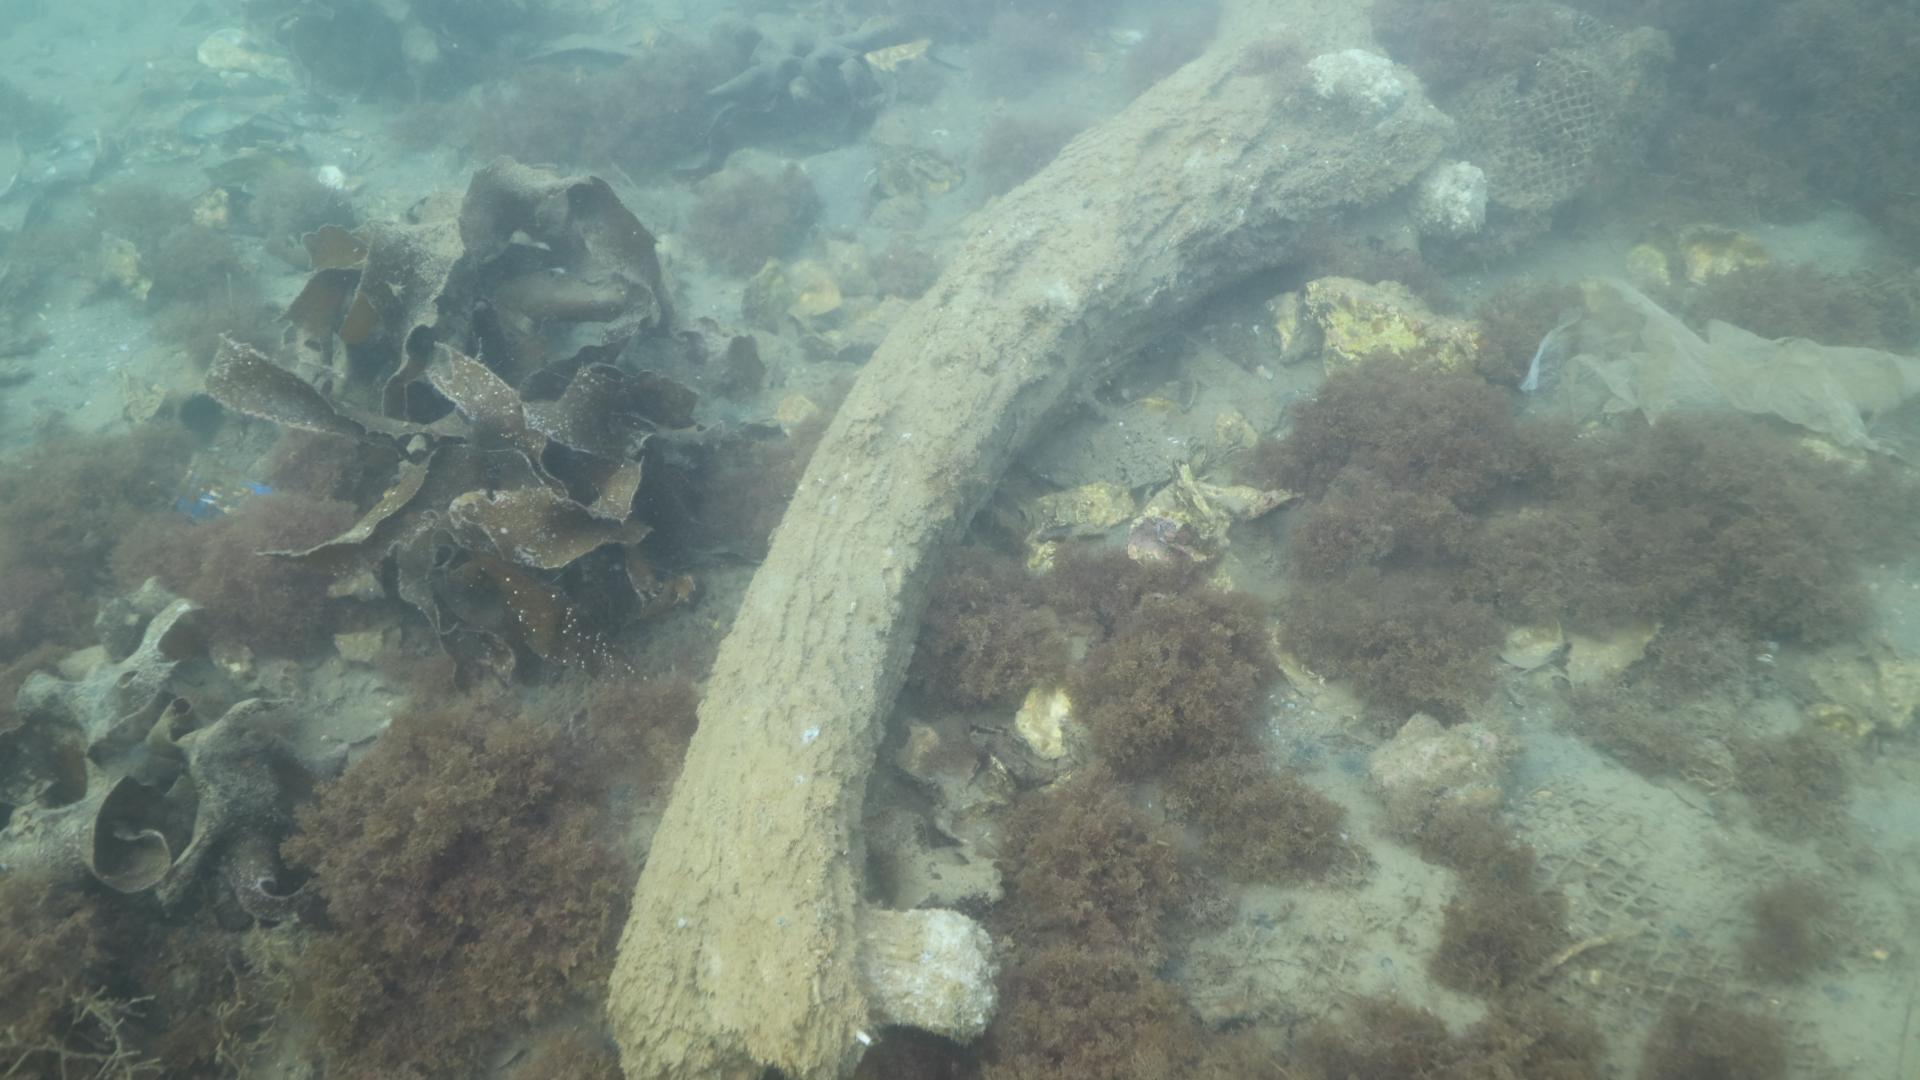fish net: (1457, 3, 1675, 210)
wood: (607, 30, 1447, 1073)
